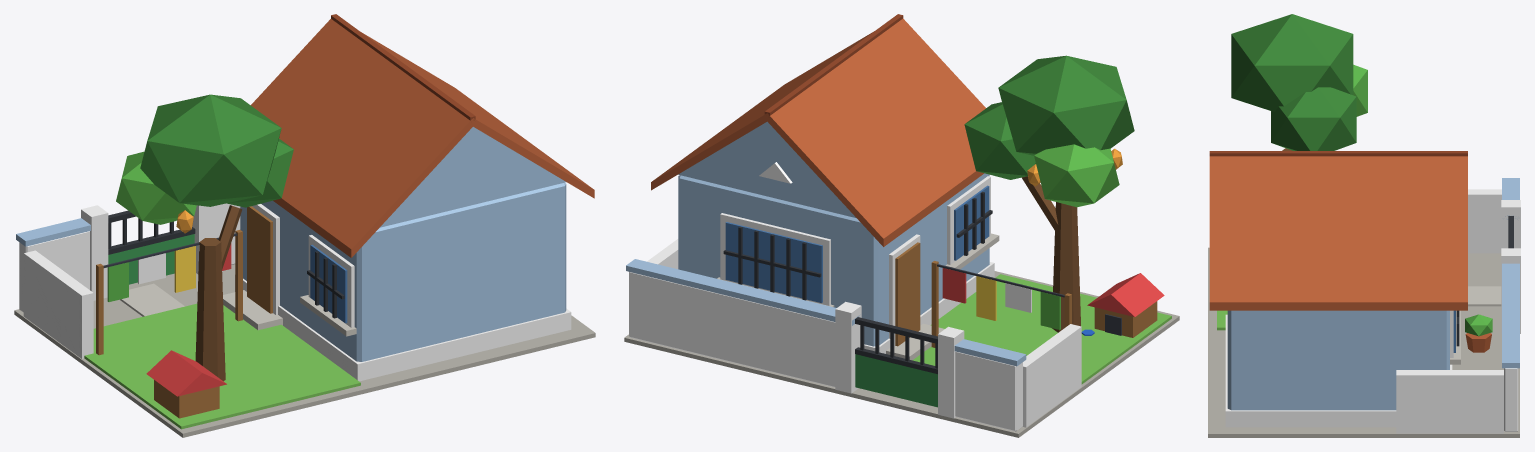
Rendered from casa_quintal.glb.
3 renders of one model, left to right at view 1: azimuth 30°, elevation 25°; view 2: azimuth 150°, elevation 25°; view 3: azimuth 270°, elevation 25°, orthographic. The views are drawn at different scales.
Visible parts, largest first — view 1: corpo; view 2: corpo; view 3: corpo.
Boxes of the visible parts, x1,y1,x2,y2 form: corpo: (14, 14, 595, 437); corpo: (624, 14, 1179, 437); corpo: (1208, 14, 1520, 437).
Bounding box in the file's own units: 1.23 × 0.832 × 0.8725.
